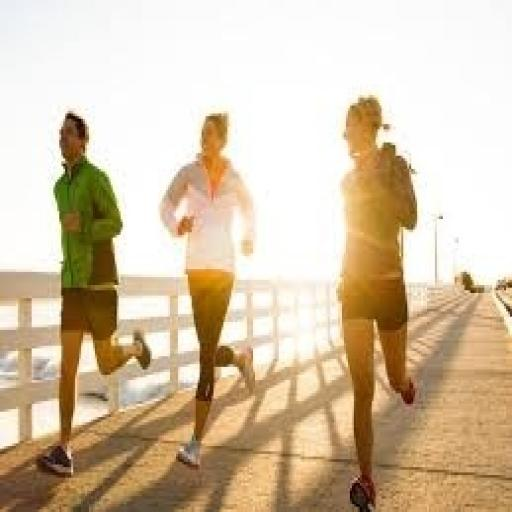running: (38, 108, 154, 480), (330, 92, 423, 510), (156, 108, 261, 472)
